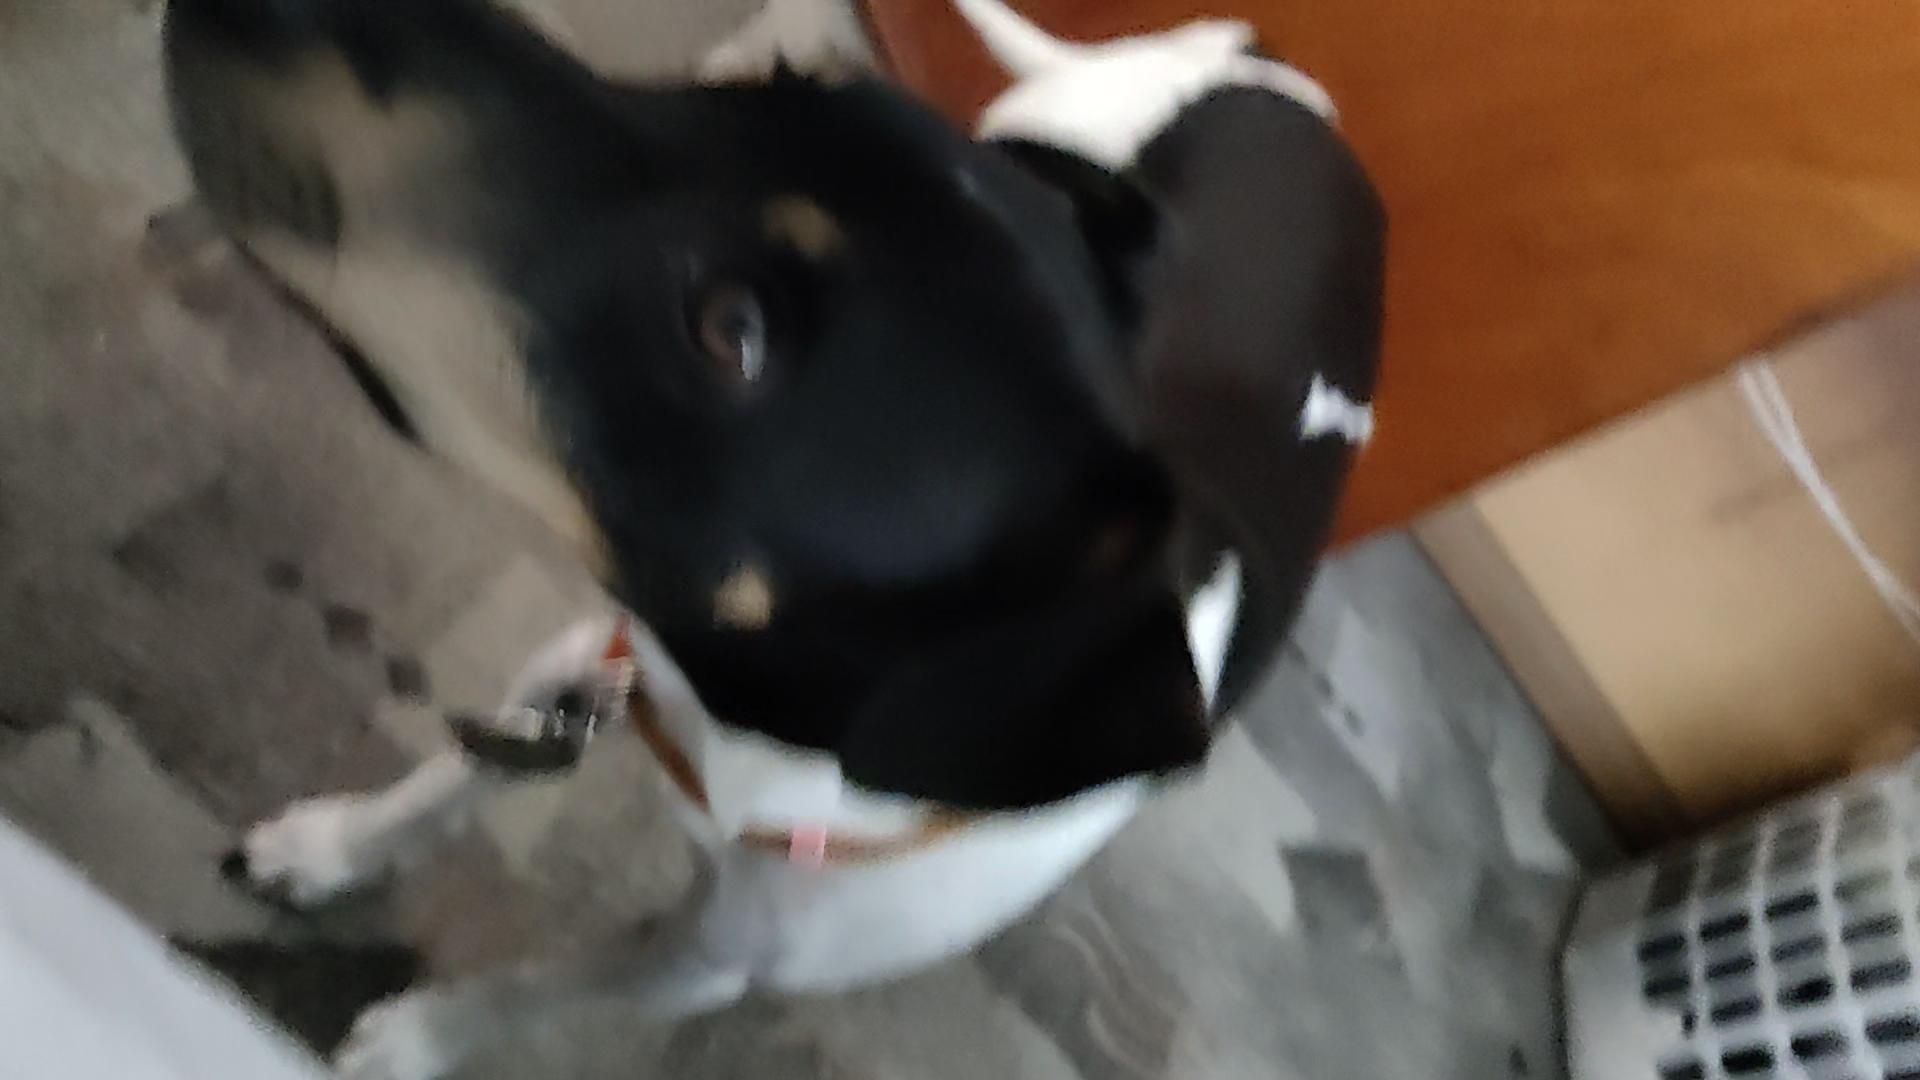Dog: (154, 0, 1396, 1079)
